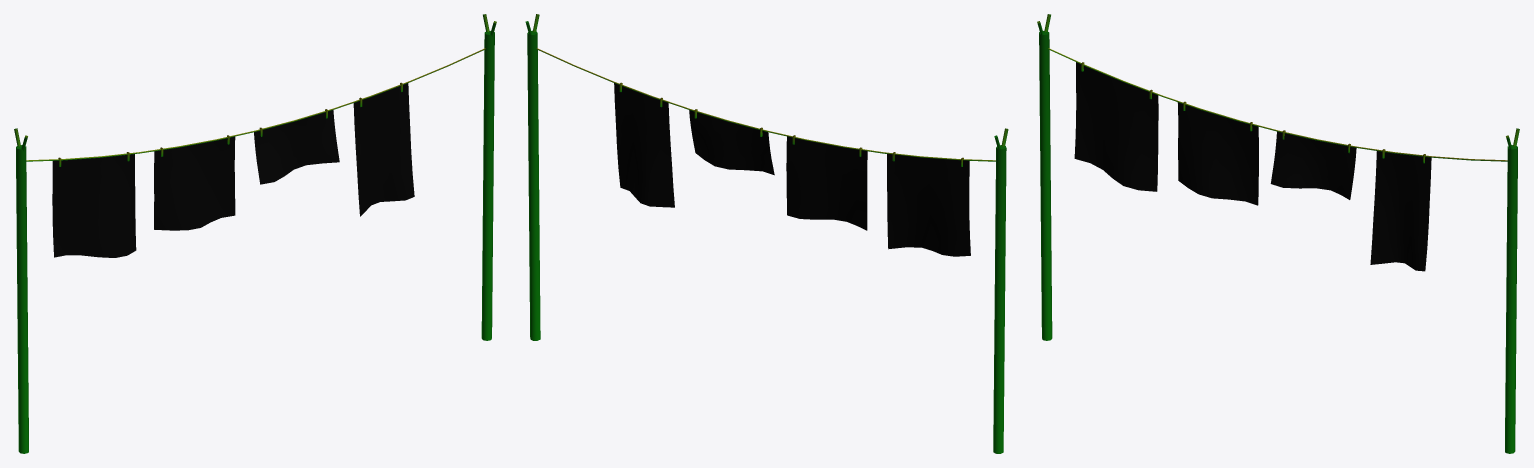
Rendered from laundry_line.glb.
3 renders of one model, left to right at view 1: azimuth 30°, elevation 25°; view 2: azimuth 150°, elevation 25°; view 3: azimuth 330°, elevation 25°, orthographic.
Parts seen in each view (by area): view 1: laundry_line; view 2: laundry_line; view 3: laundry_line.
Boxes of the visible parts, bbox=[...] form: laundry_line: bbox=[14, 14, 496, 453]; laundry_line: bbox=[525, 14, 1008, 453]; laundry_line: bbox=[1037, 14, 1519, 453].
Size of what is drawn, in the model's own units: 4.13 by 2.65 by 0.2037.
